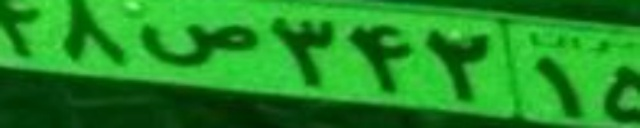1: (529, 54, 585, 118)
2: (423, 28, 505, 103)
3: (267, 15, 337, 87)
4: (344, 22, 420, 93), (0, 0, 41, 57)
5: (597, 64, 639, 121)
8: (55, 0, 128, 63)
saat: (137, 22, 260, 69)
